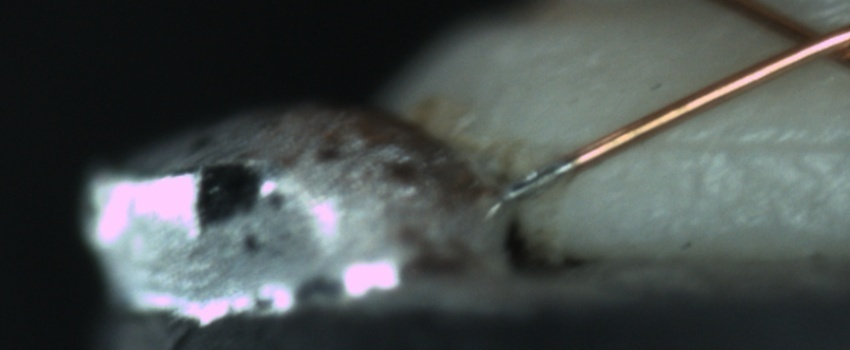CL: (760, 8, 849, 75)
DL: (634, 110, 850, 181)
TS: (499, 157, 571, 207)
